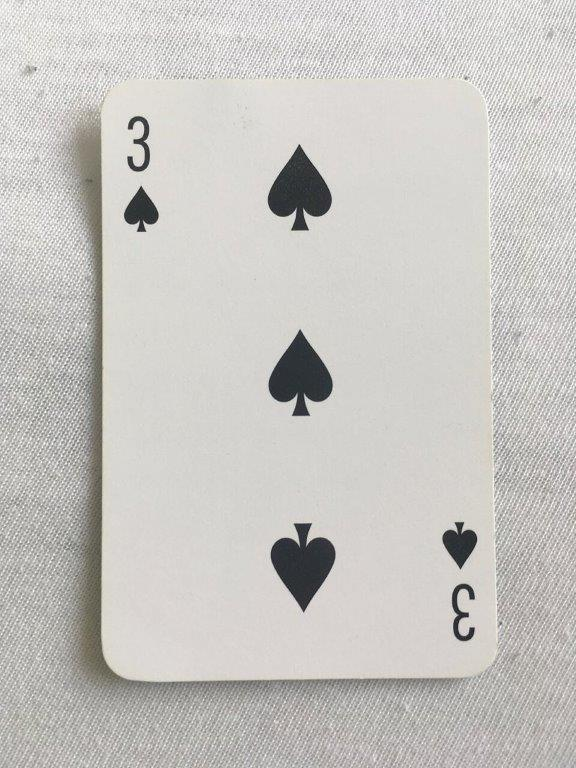3S: (96, 73, 504, 683)
